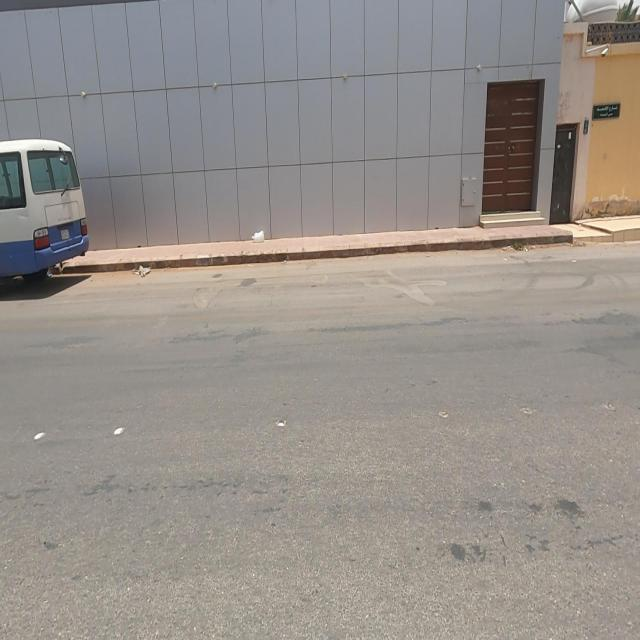debris: (110, 231, 188, 319), (224, 216, 288, 266)
